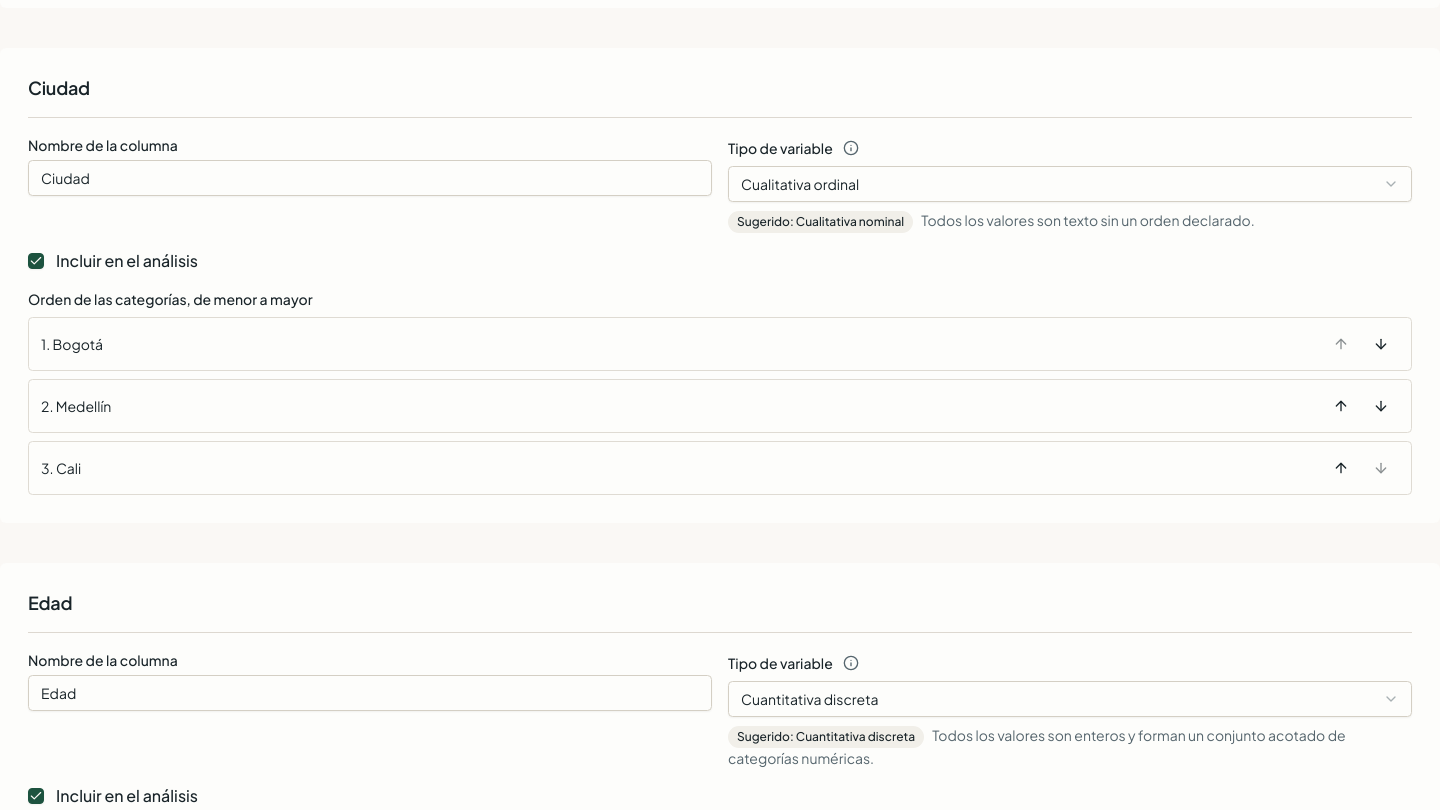
Test: StepVariables › permite cambiar el tipo a ordinal y ordenar sus categorías
(page scrolled)
Expected: the text "Orden de las categorías, de menor a mayor" is shown, x1=28 y1=290 x2=313 y2=308
Expected: the text "1. Bogotá" is shown, x1=41 y1=334 x2=103 y2=354
What coordinates should you click on to do the following:
click the button named "Subir Medellín"
I would click on:
 (1341, 406)
Its box is x1=1323 y1=388 x2=1359 y2=424.
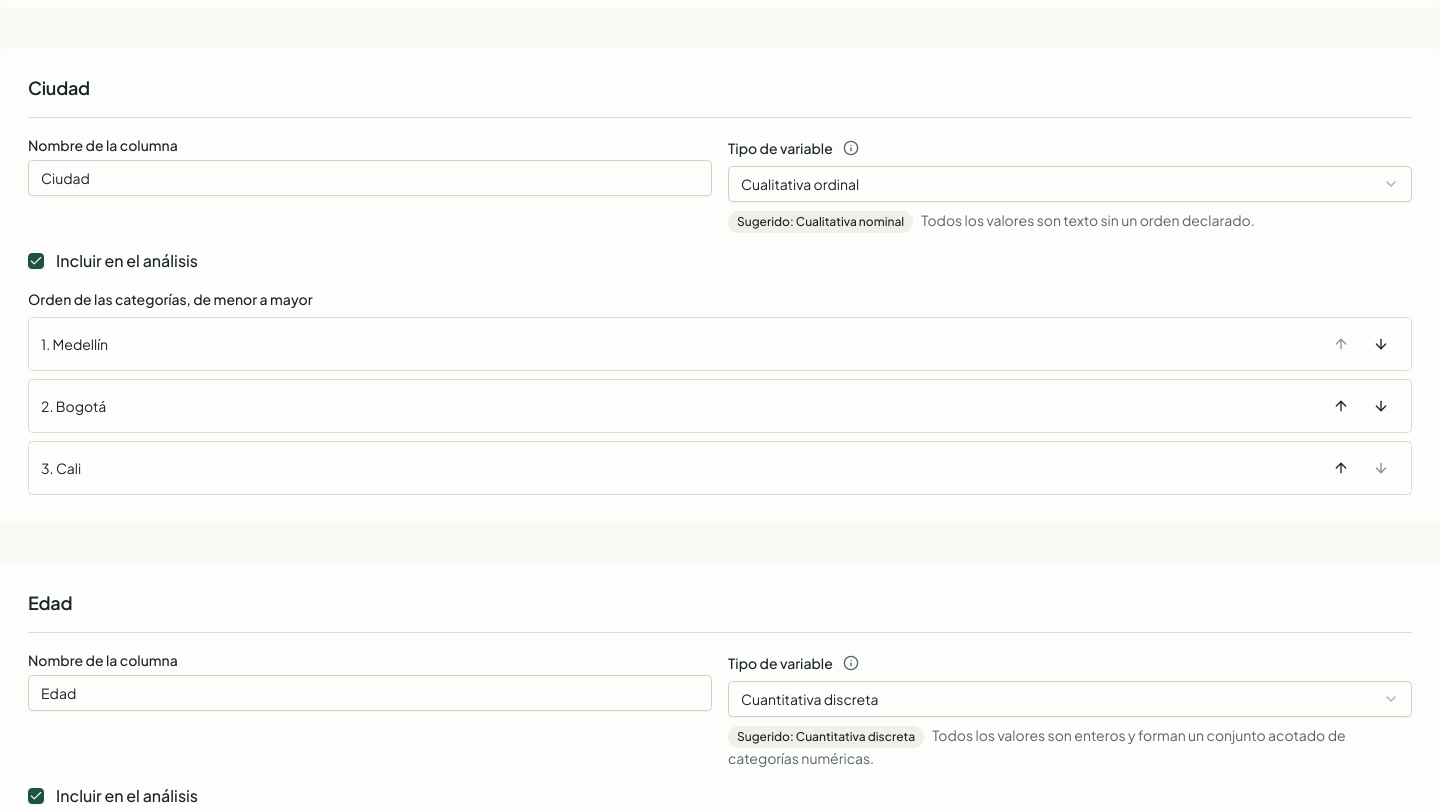
Expected: the text "1. Medellín" is shown, x1=41 y1=334 x2=108 y2=354
